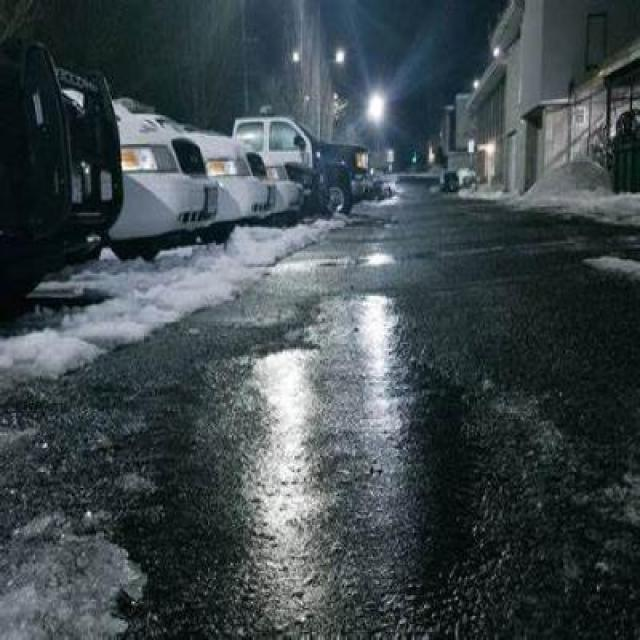ice-road: (0, 219, 640, 640)
